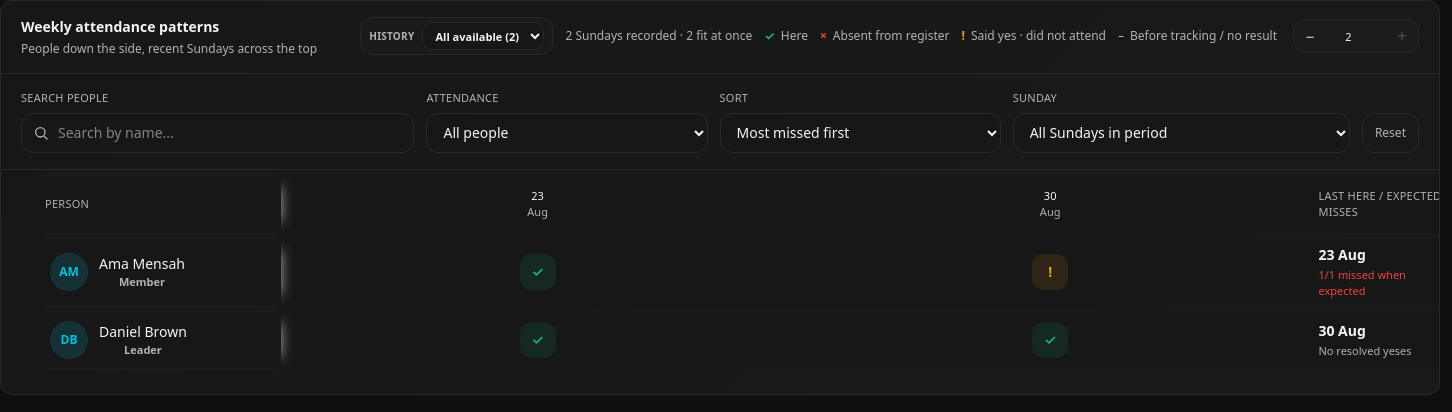
WeeklyAttendanceMatrix › searches people and filters attendance status
The width and height of the screenshot is (1452, 412).
Type "Ama" into the search field labelled "Search people" at coordinates (218, 132), box [21,112,414,152]
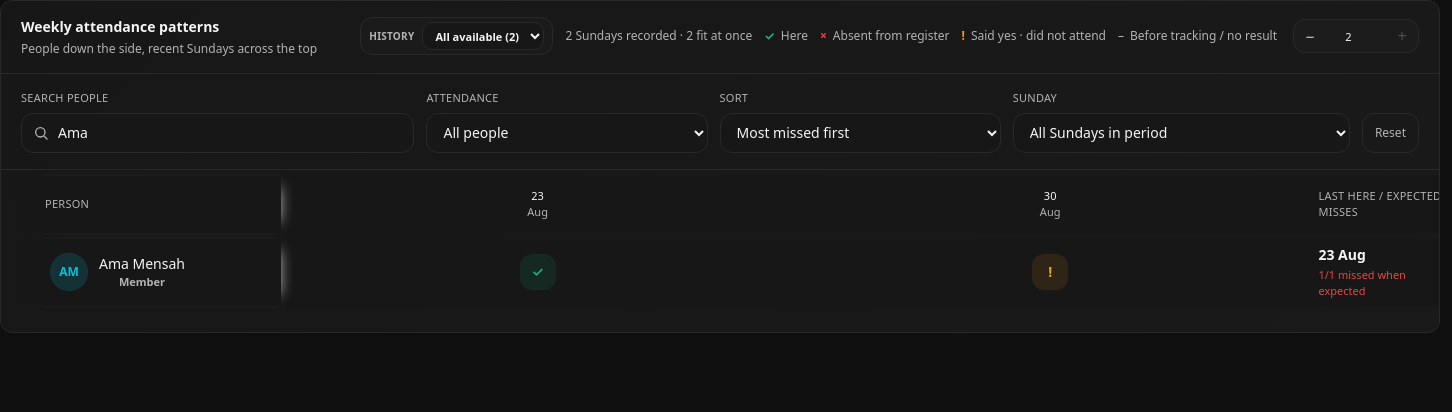
Expected: the text "Ama Mensah" is shown, [99,254,185,274]
Expected: the button "Daniel Brown" is gone
Clear the search field labelled "Search people" at coordinates (218, 132), box [21,112,414,152]
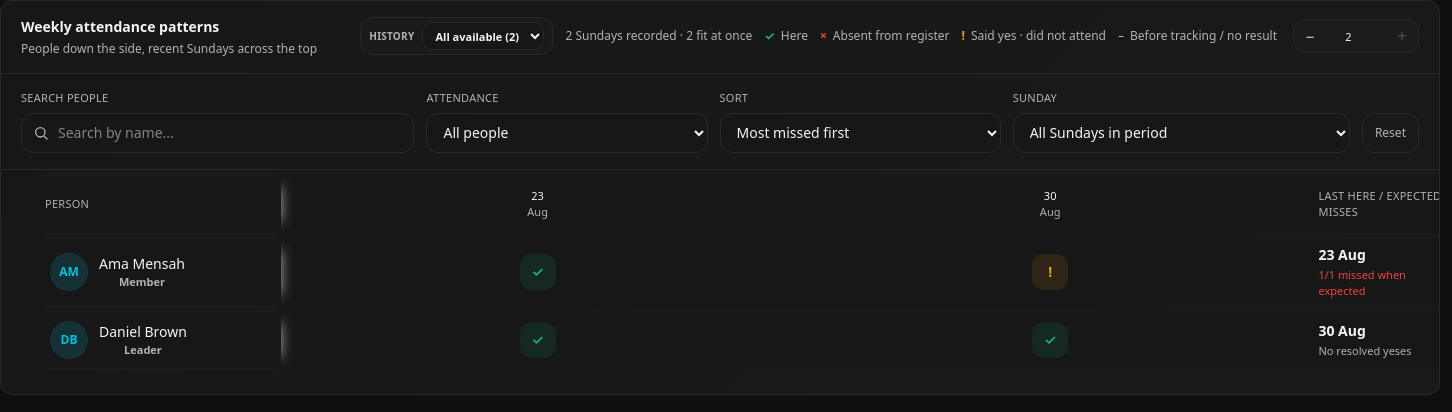
Select "Perfect attendance" in the dropdown labelled "Attendance" at coordinates (567, 132), box [426,112,708,152]
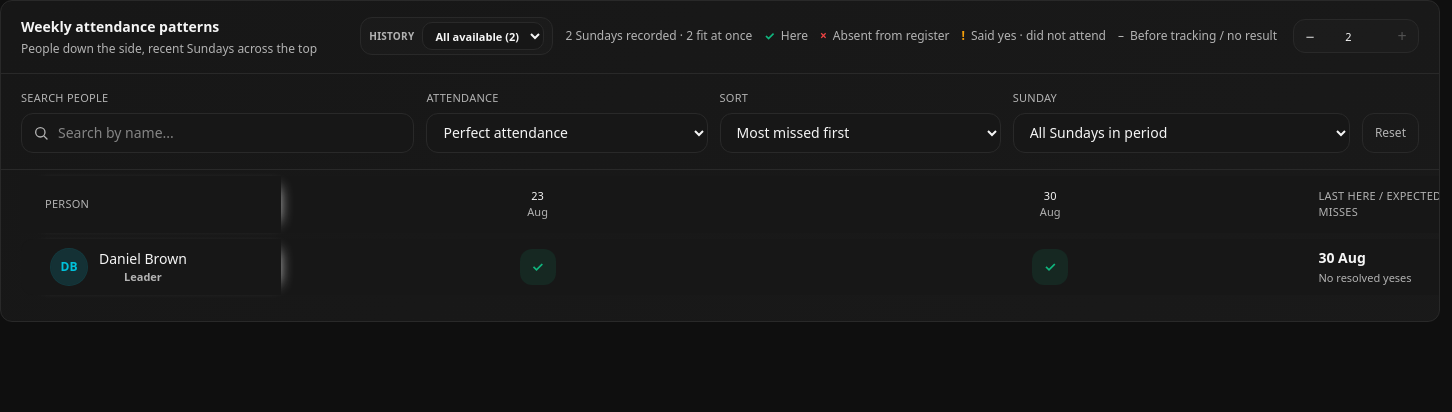
Expected: the text "Daniel Brown" is shown, [99,248,187,268]
Expected: the button "Ama Mensah" is gone
